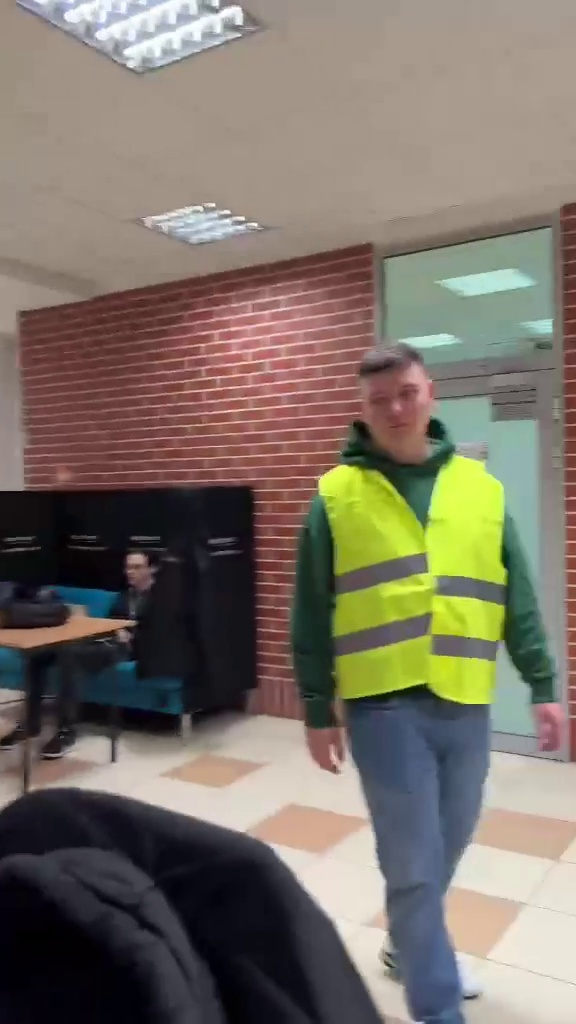no vest: (10, 543, 189, 734)
vest: (301, 331, 568, 1024)
